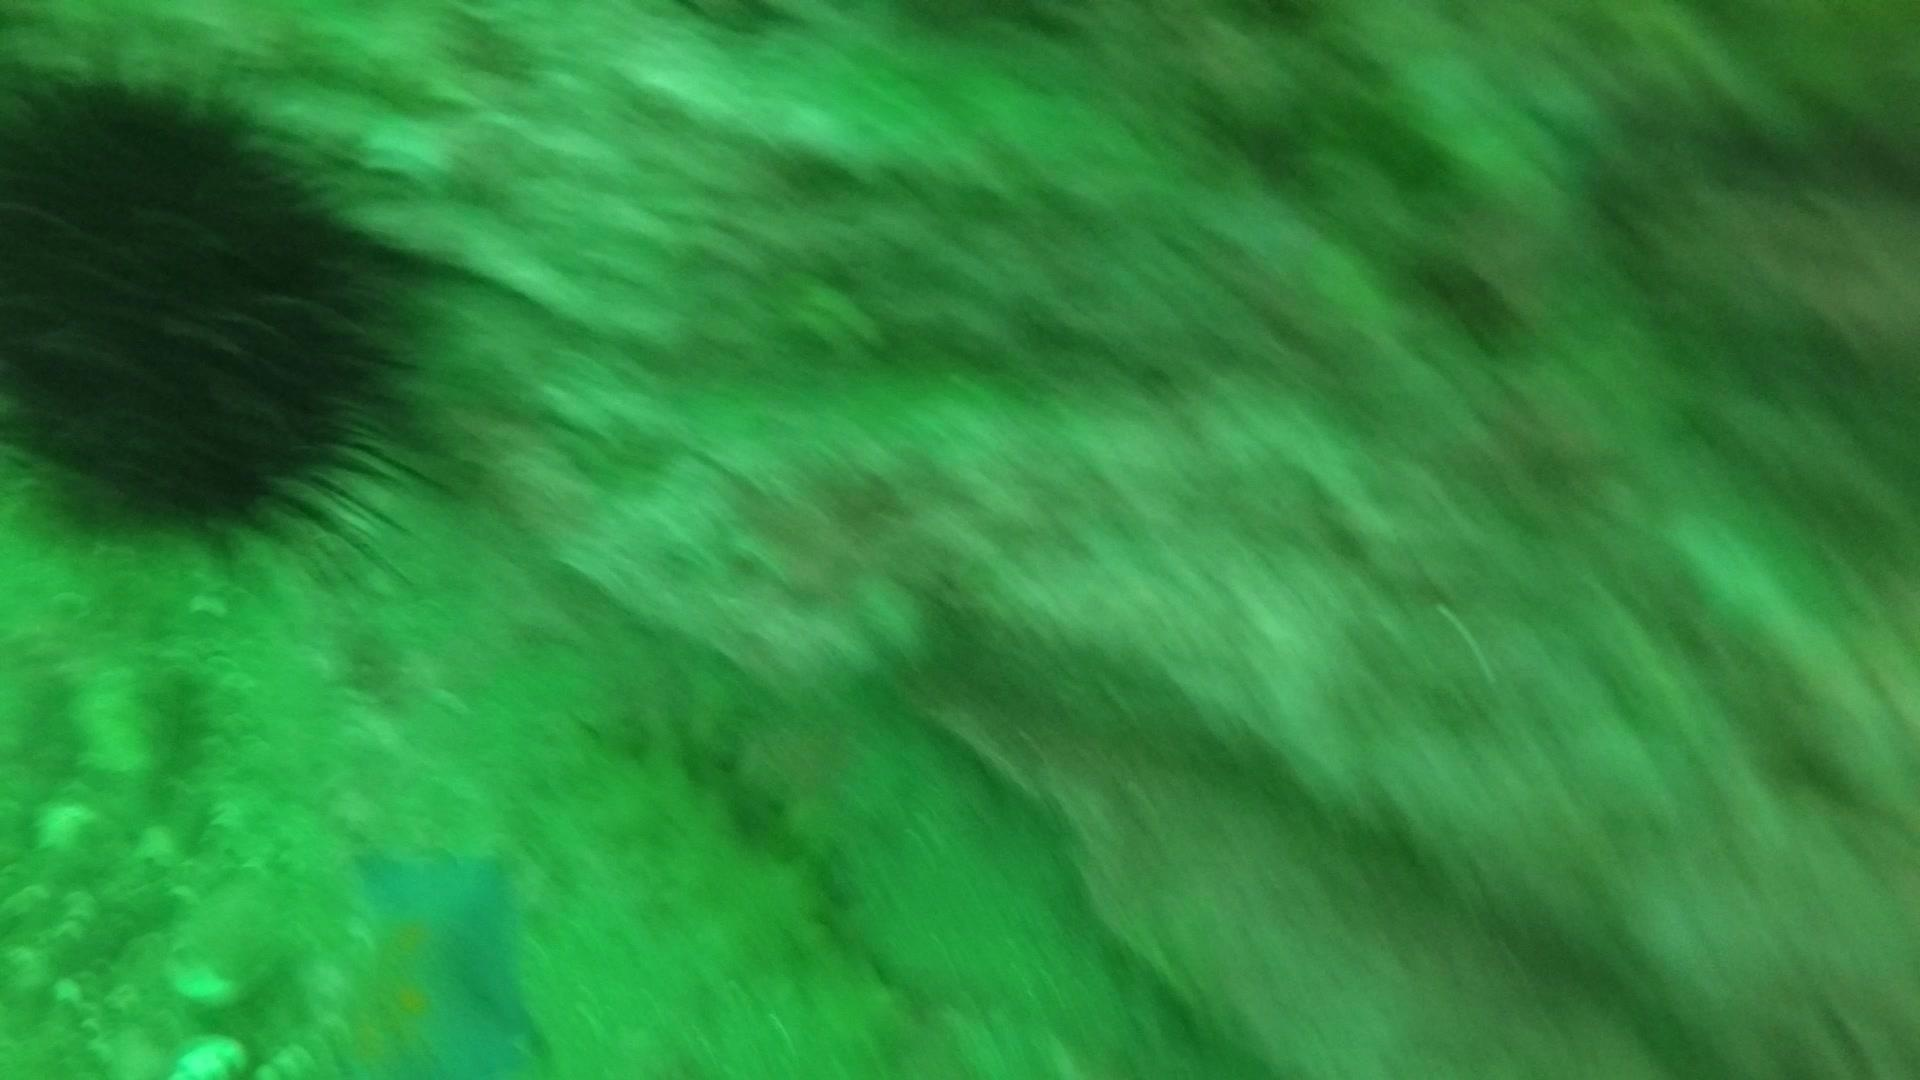echinus: (0, 50, 434, 560)
starfish: (319, 836, 550, 1080)
